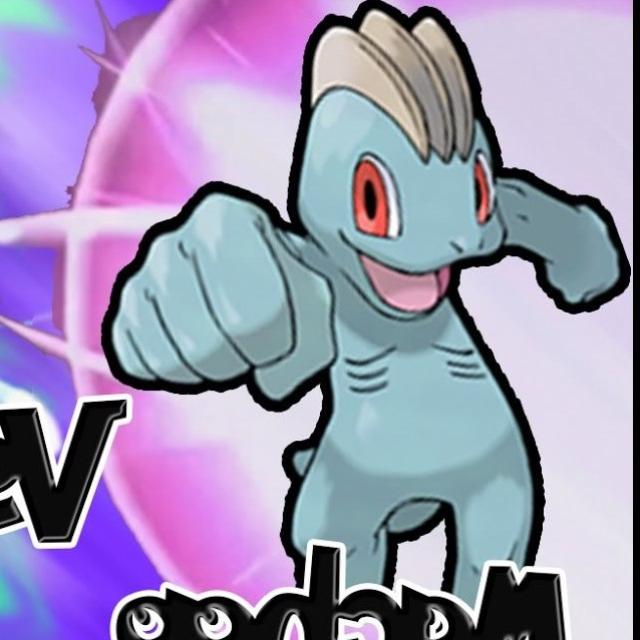Machop: (100, 0, 616, 610)
